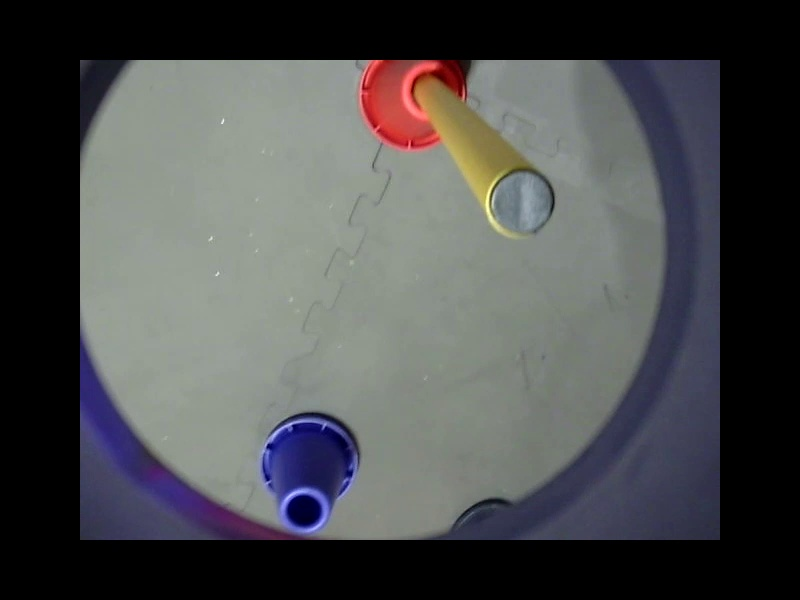tip: (478, 156, 561, 240)
